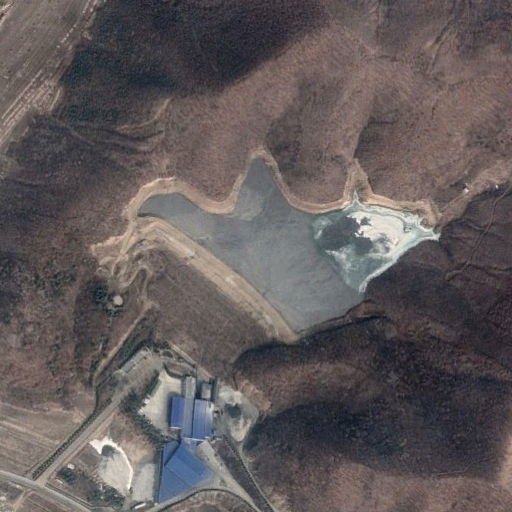tp: (130, 152, 441, 386)
